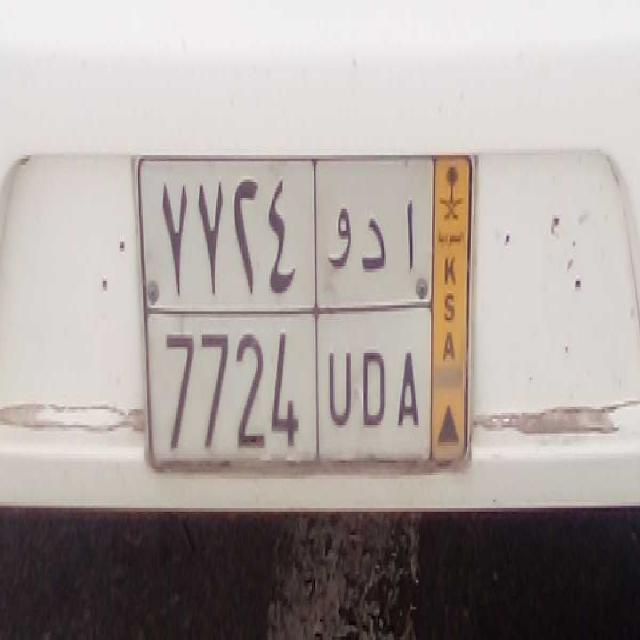license_plate: (142, 301, 433, 464)
